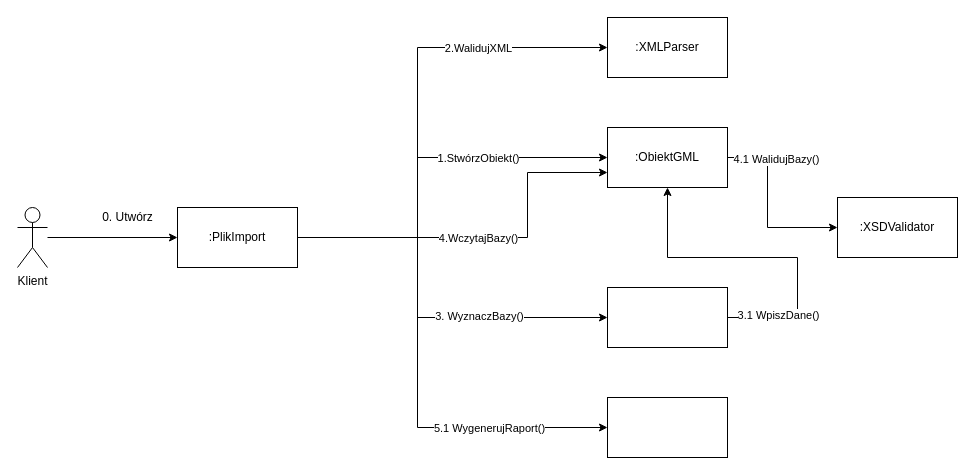
The diagram is 975 pixels wide and 475 high, and some of its shapes have lost their labels. Here are the shapes that lost their labels. From the top down, the box of each, then its label:
(606, 286, 728, 348): :NamespaceTool
(606, 396, 728, 458): :Raporter
